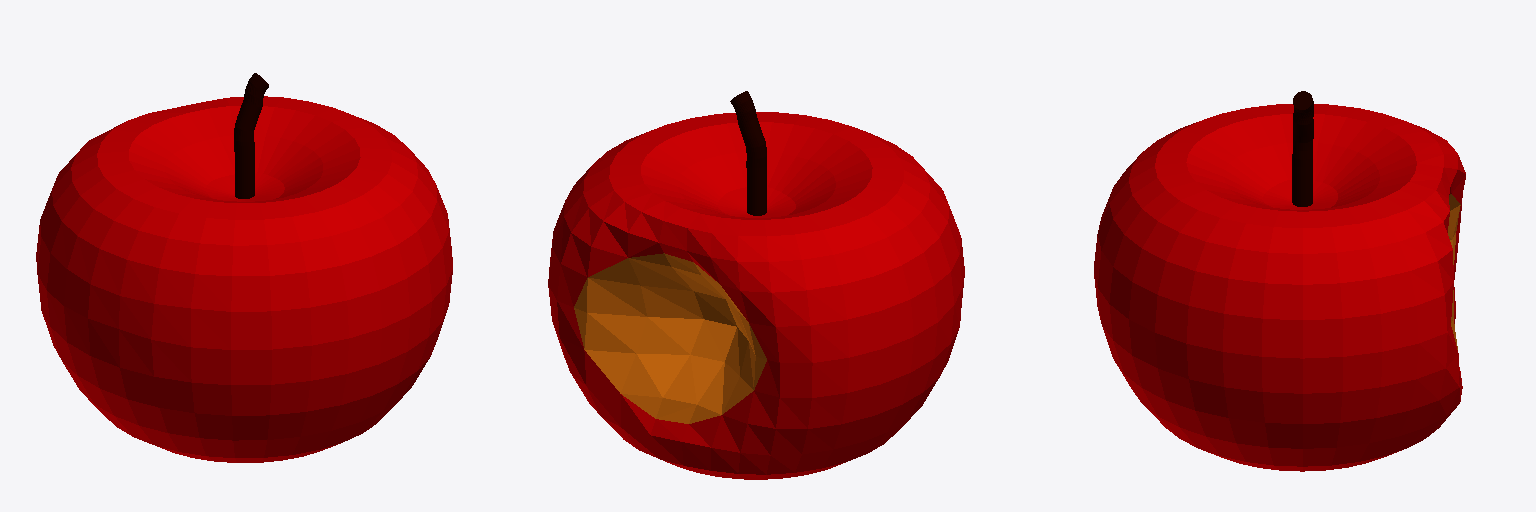
Rendered from pommeCroq.obj.
3 views of the same model, side by side, from view 1: azimuth 30°, elevation 25°; view 2: azimuth 150°, elevation 25°; view 3: azimuth 270°, elevation 25° (orthographic).
Visible parts, largest first — view 1: Sphere, Cylinder; view 2: Sphere, Cylinder; view 3: Sphere, Cylinder.
Part boxes in pixels (x1,y1,x2,y2): Sphere: (36, 96, 452, 462); Cylinder: (234, 73, 268, 198); Sphere: (548, 112, 964, 479); Cylinder: (730, 91, 766, 215); Sphere: (1094, 104, 1465, 471); Cylinder: (1292, 91, 1313, 206).
Bounding box in the file's own units: 2 × 1.8 × 1.78.